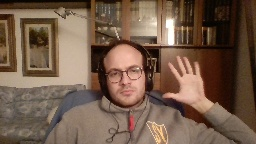Mano_aperta: (158, 53, 205, 106)
